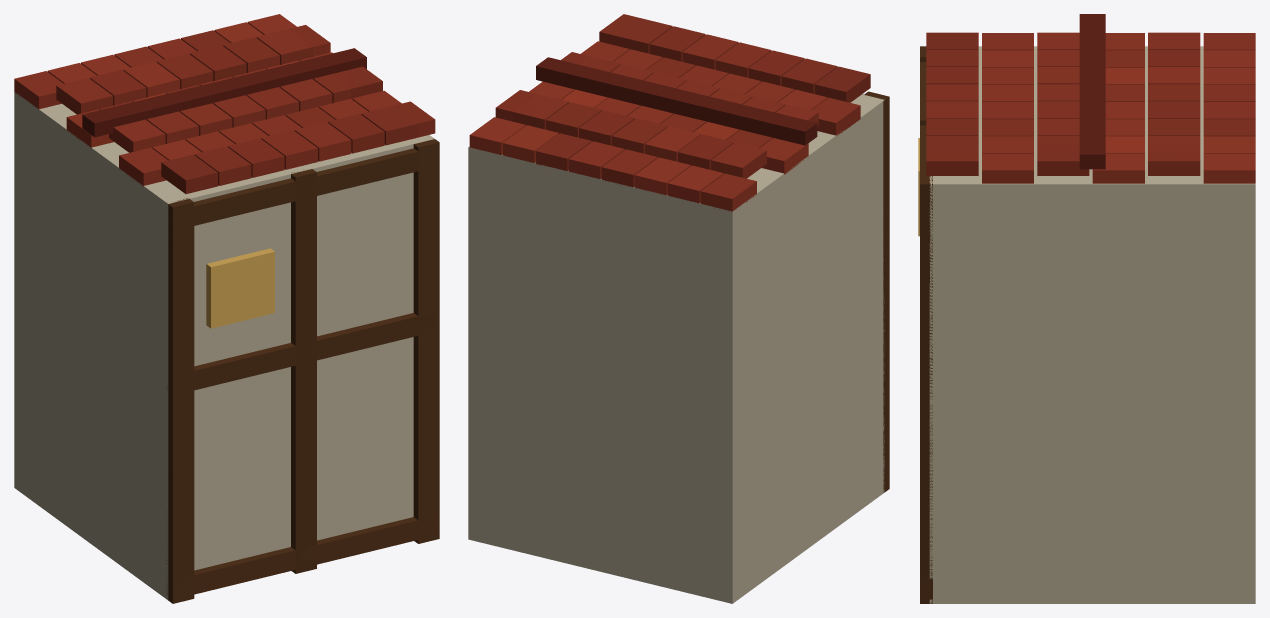
The model's file is t_house_1.glb.
The picture shows the model from 3 angles, left to right: view 1: azimuth 30°, elevation 25°; view 2: azimuth 150°, elevation 25°; view 3: azimuth 270°, elevation 25°; orthographic projection. The views are drawn at different scales.
Parts seen in each view (by area): view 1: t_house_1; view 2: t_house_1; view 3: t_house_1.
Part boxes in pixels (left/top/right/bottom): t_house_1: left=14, top=14, right=439, bottom=603; t_house_1: left=468, top=14, right=889, bottom=603; t_house_1: left=918, top=14, right=1255, bottom=603.
Size of the model in its own units: 1.02 by 1.53 by 1.04.
